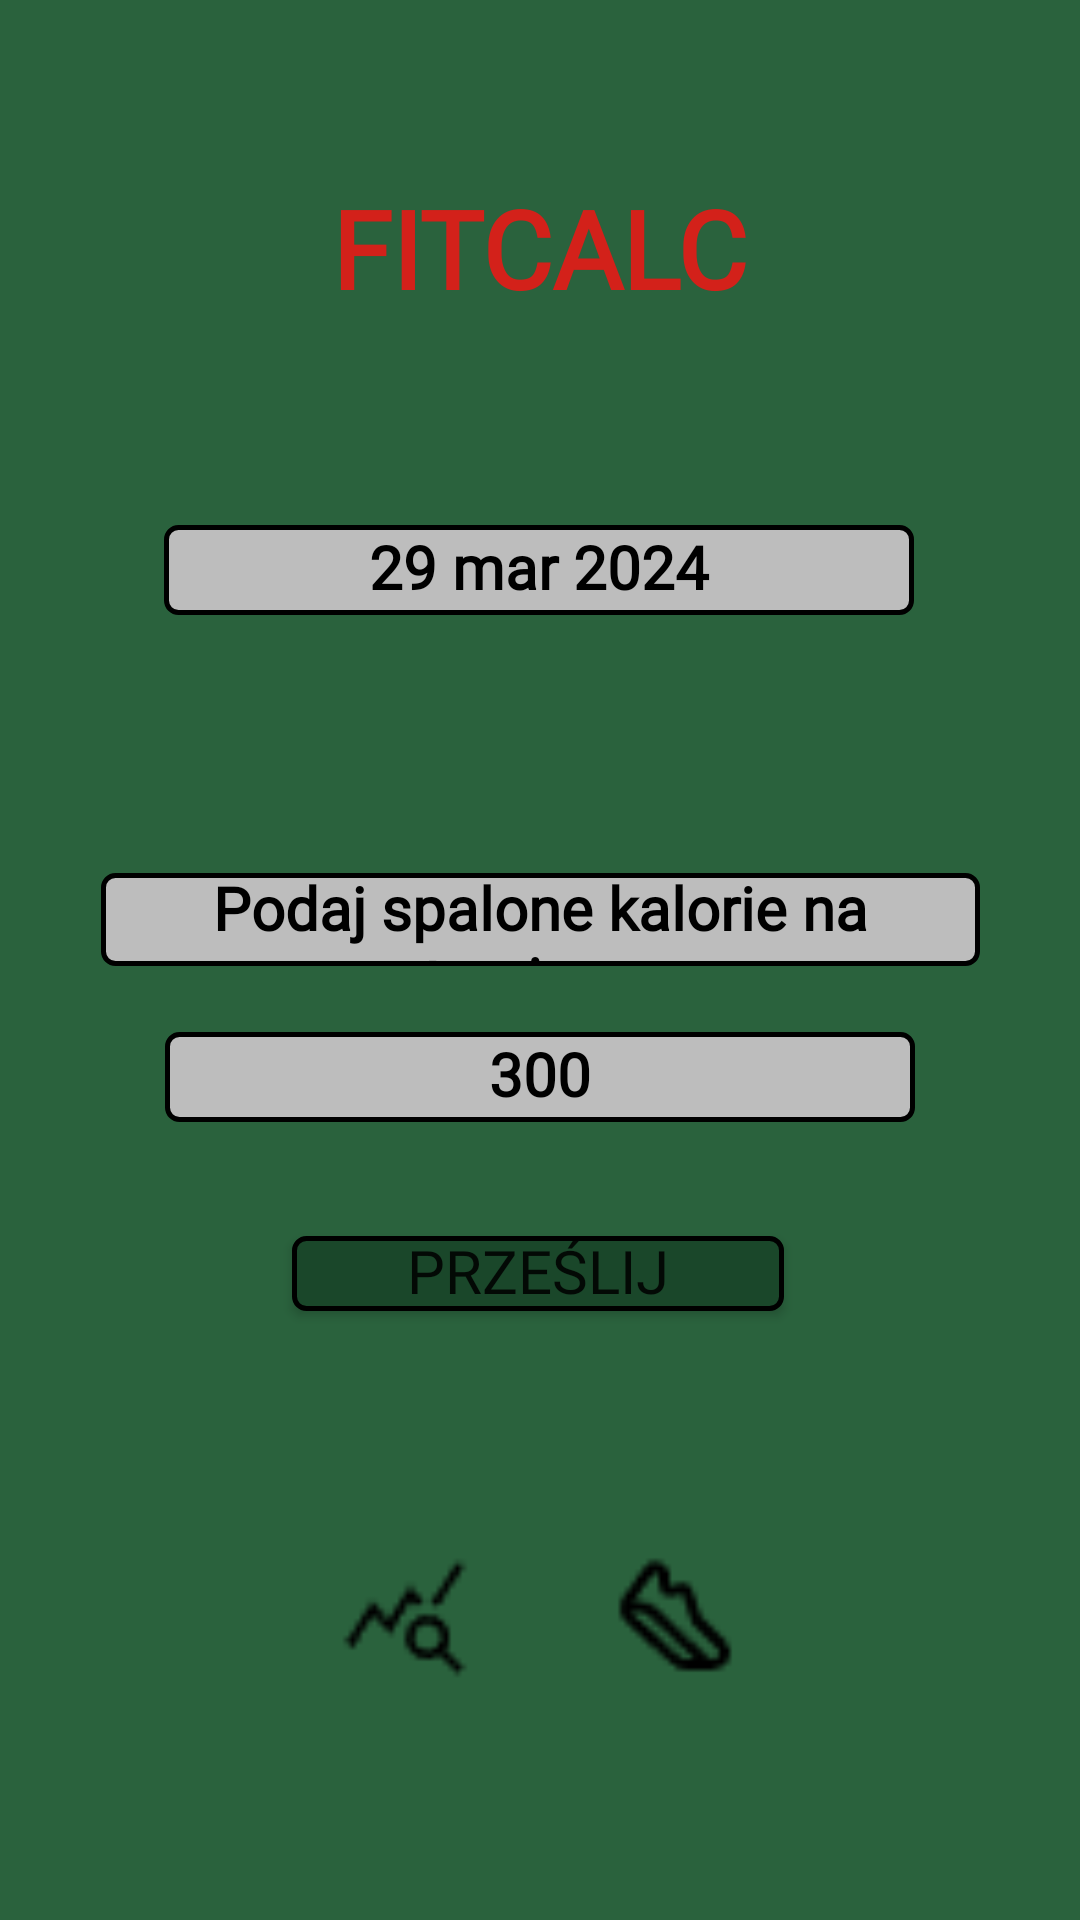

Screen size 1080*1920. Icon name, then its center in pixels as (x,y):
analiza: (404,1618)
stopa: (675,1615)
